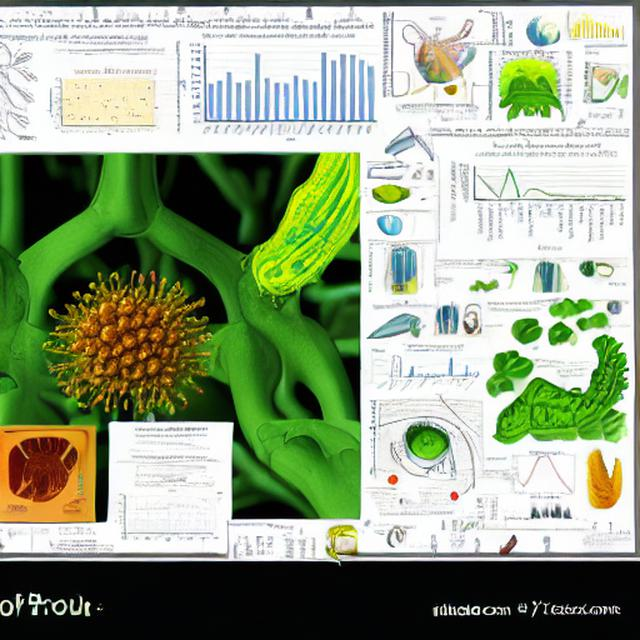Graph: (174, 30, 380, 149), (445, 139, 632, 255), (47, 69, 160, 138), (112, 481, 216, 545), (390, 343, 480, 396), (508, 446, 582, 502), (561, 6, 625, 43)
